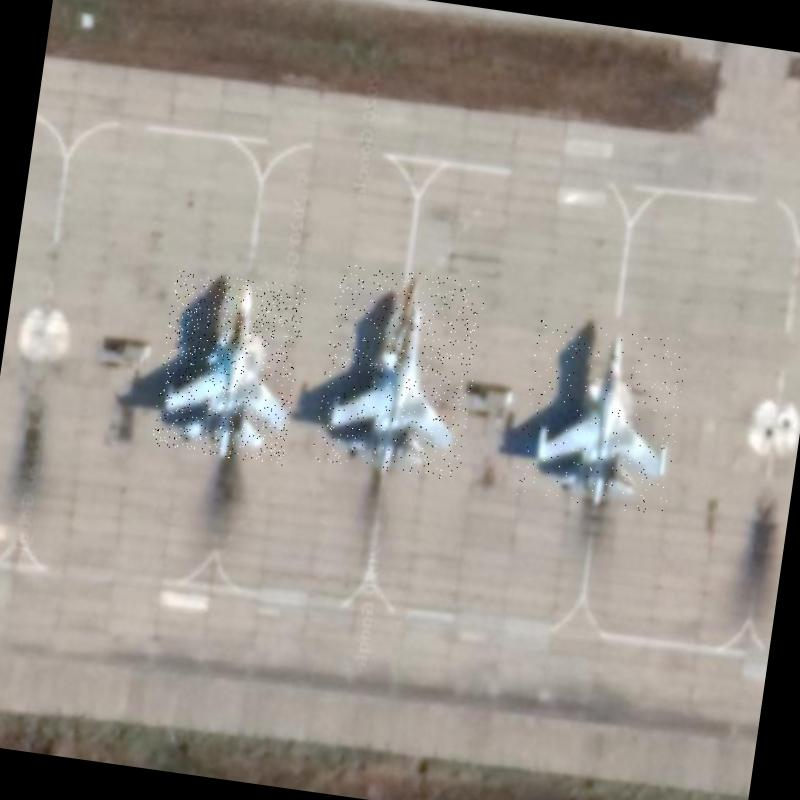A1: (310, 261, 486, 481), (512, 318, 689, 516)
A19: (150, 268, 308, 466)
